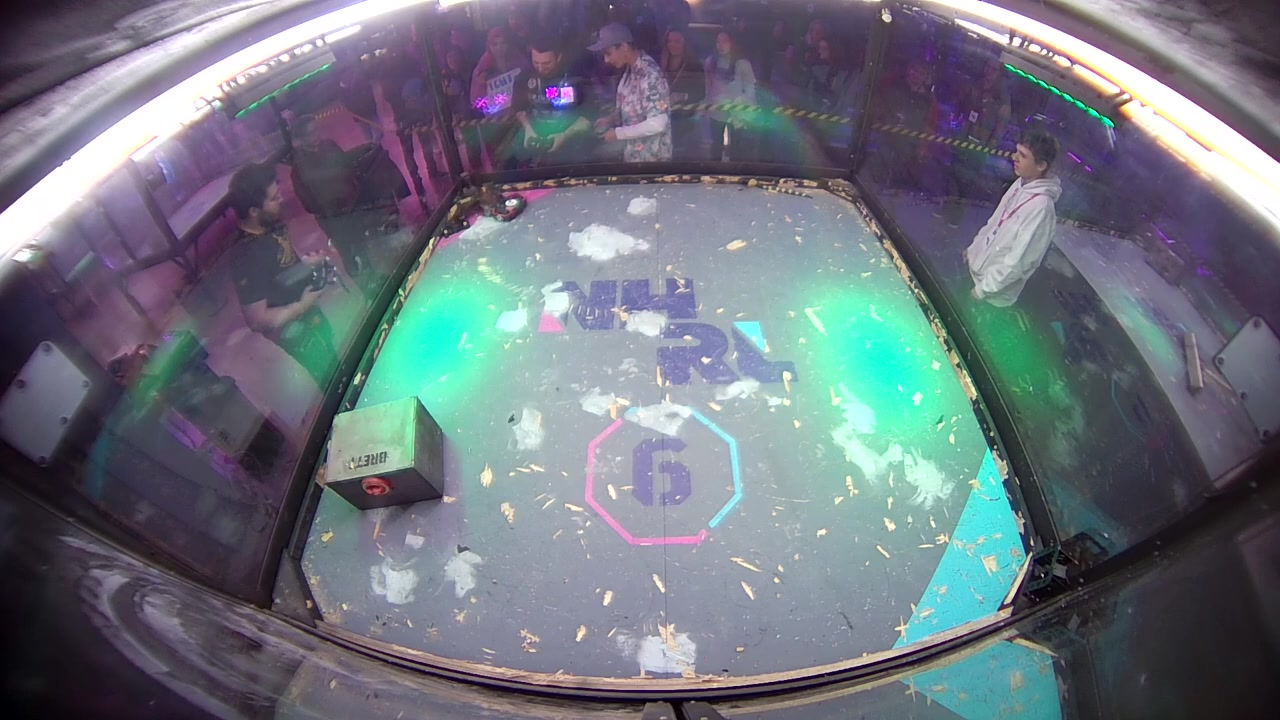combatbot: (486, 191, 528, 222), (435, 211, 477, 238)
housebot: (320, 397, 449, 513)
